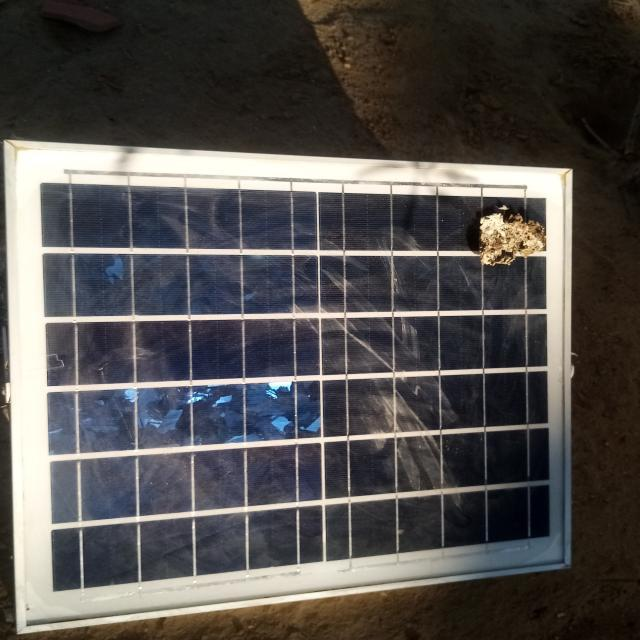faulty: (6, 142, 572, 632)
